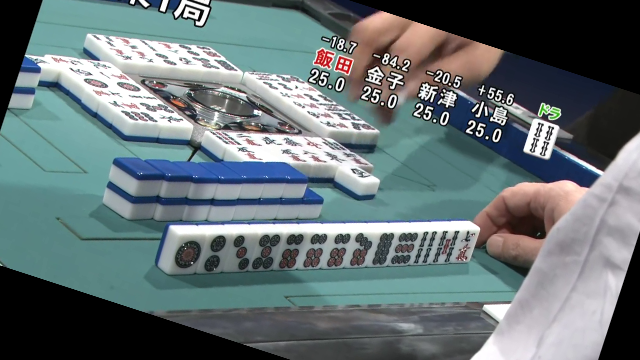Tehai: (161, 213, 479, 281)
